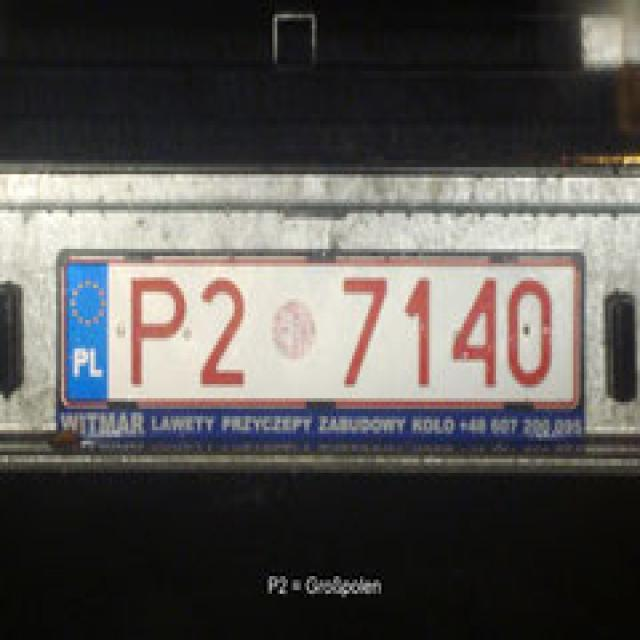pl_license_plate: (61, 252, 579, 406)
